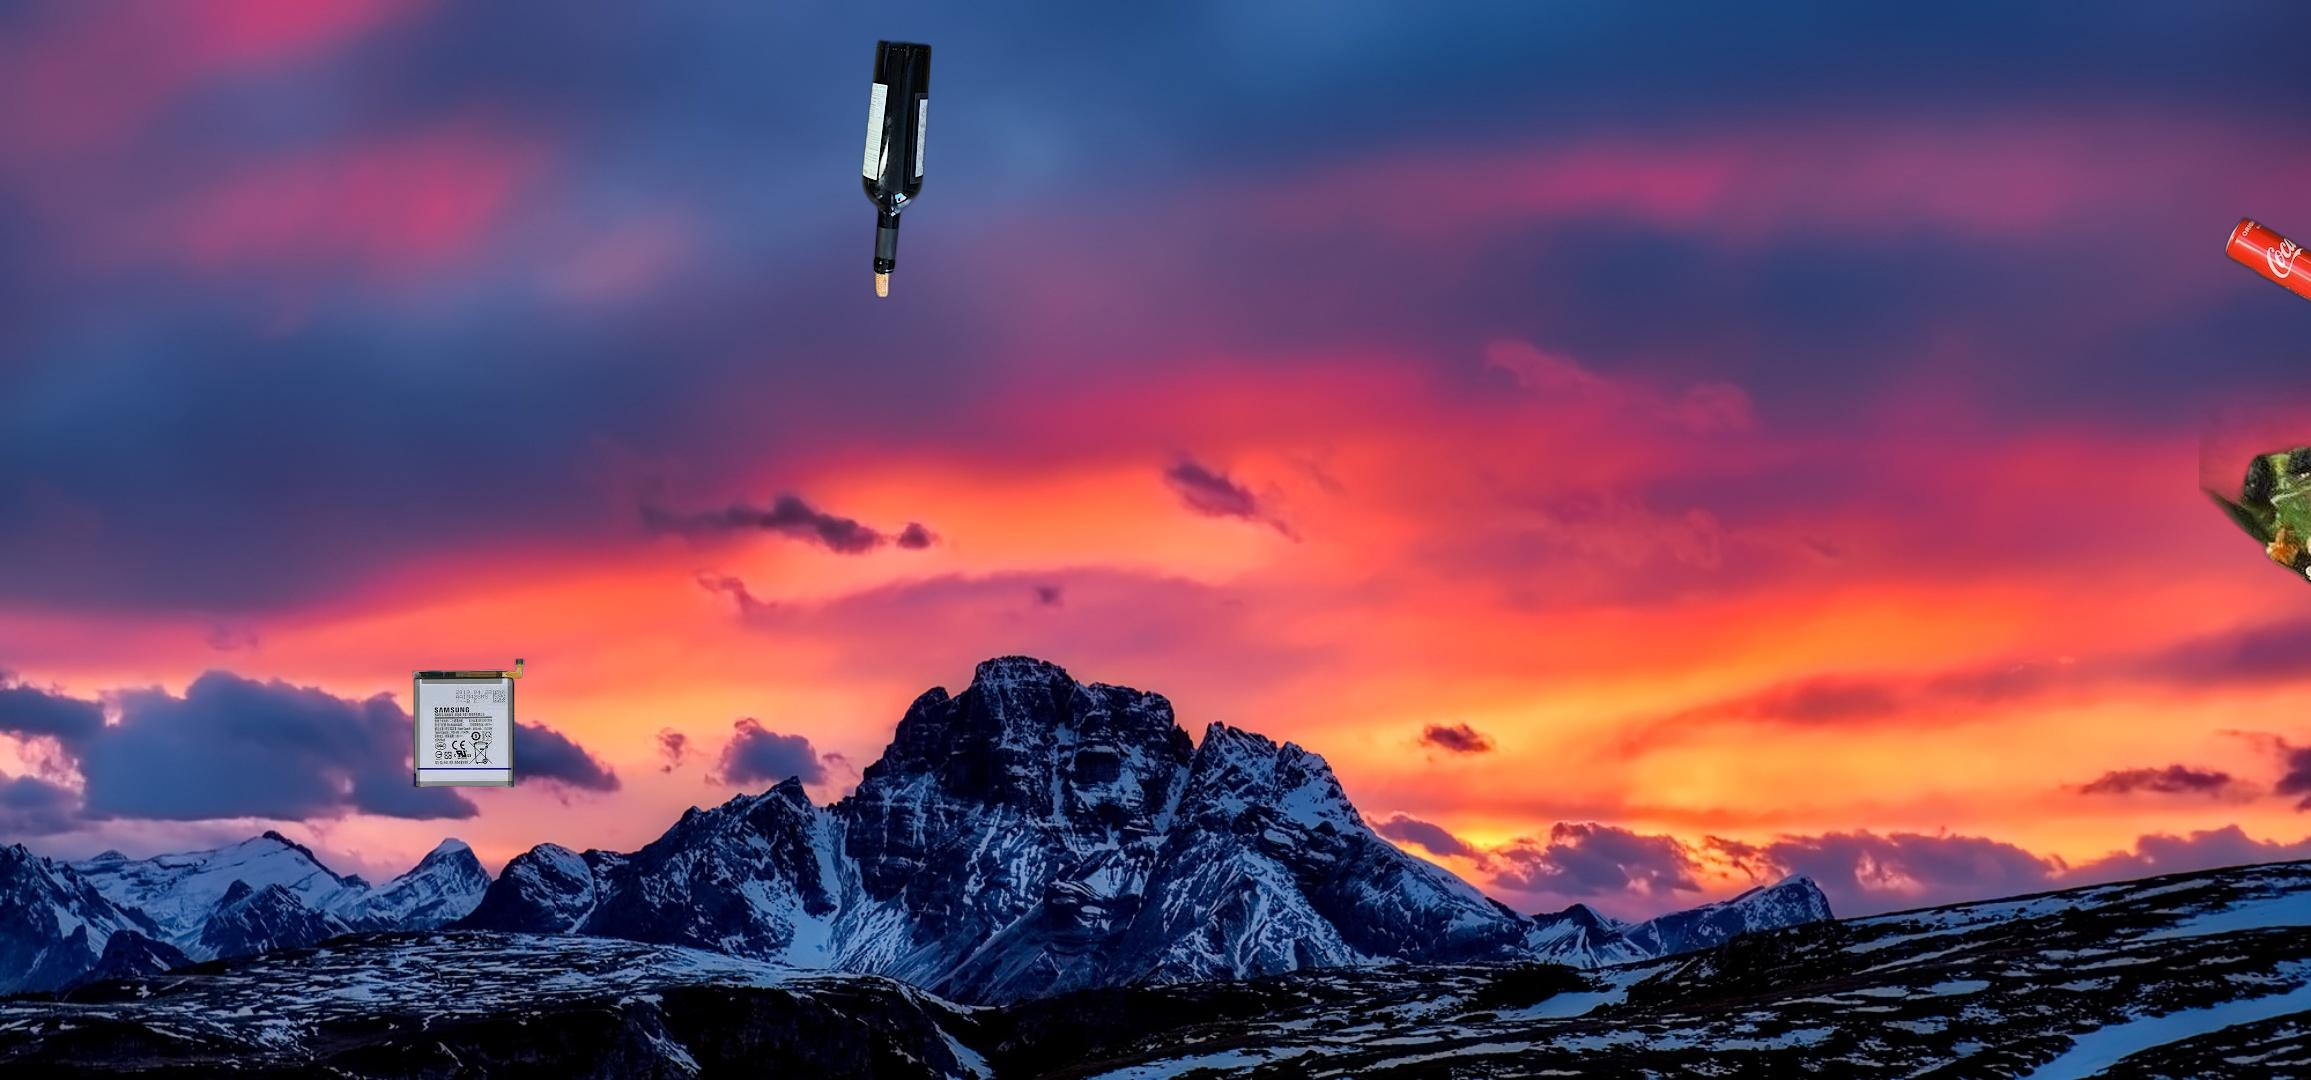battery: (408, 656, 528, 790)
biological: (2199, 337, 2311, 628)
glass: (856, 34, 934, 304)
metal-cans: (1954, 183, 2311, 715)
paper-bag: (2310, 364, 2311, 563)
